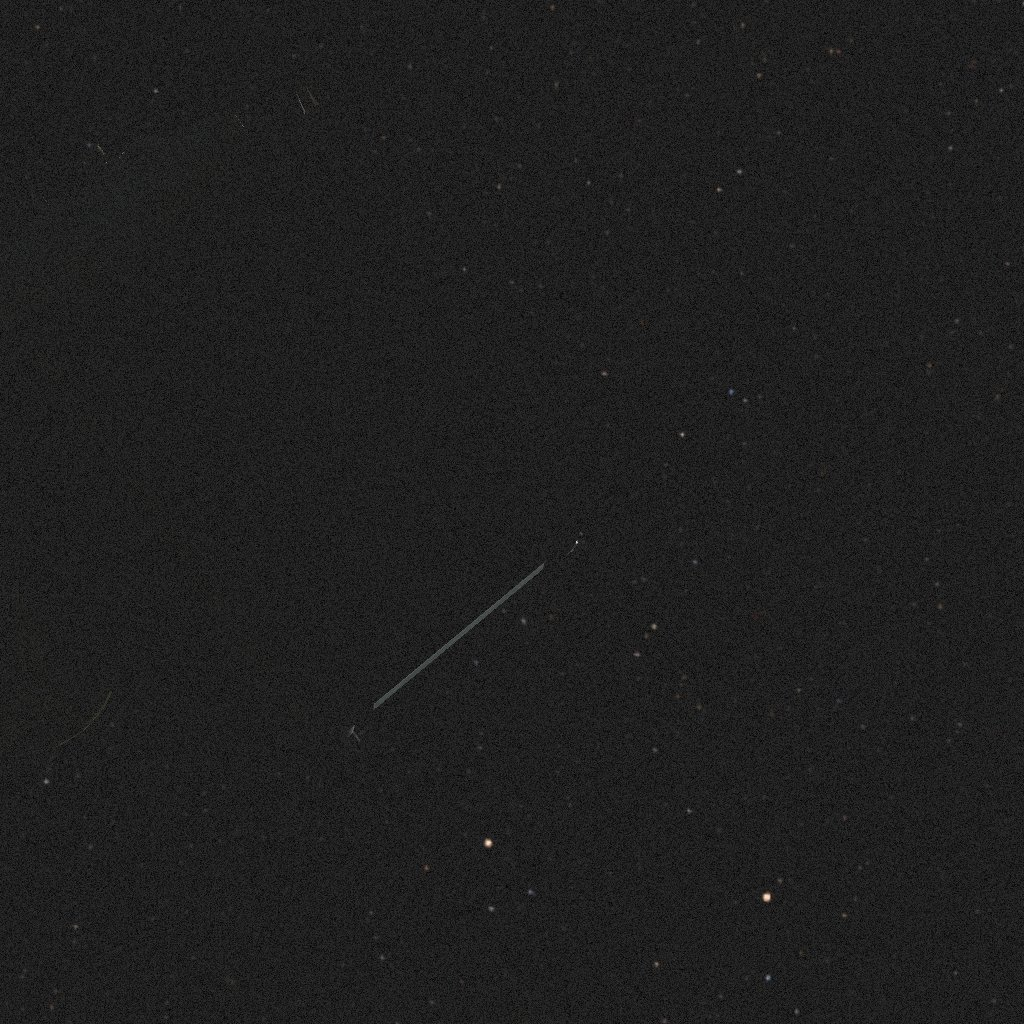cheops: (0, 81, 603, 772)
